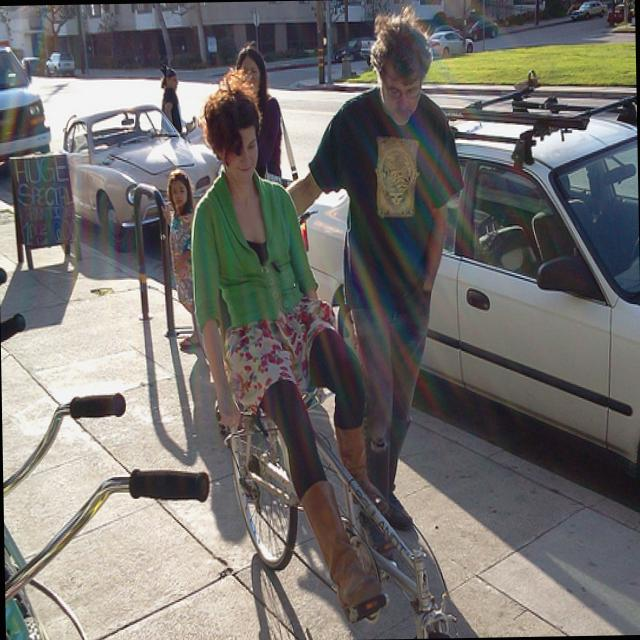Vehicle: (423, 67, 640, 548), (62, 104, 223, 253), (0, 9, 52, 177), (429, 30, 473, 58), (464, 16, 498, 40), (570, 0, 608, 20), (44, 52, 75, 76), (606, 4, 634, 25), (352, 40, 376, 60), (20, 56, 39, 72)
